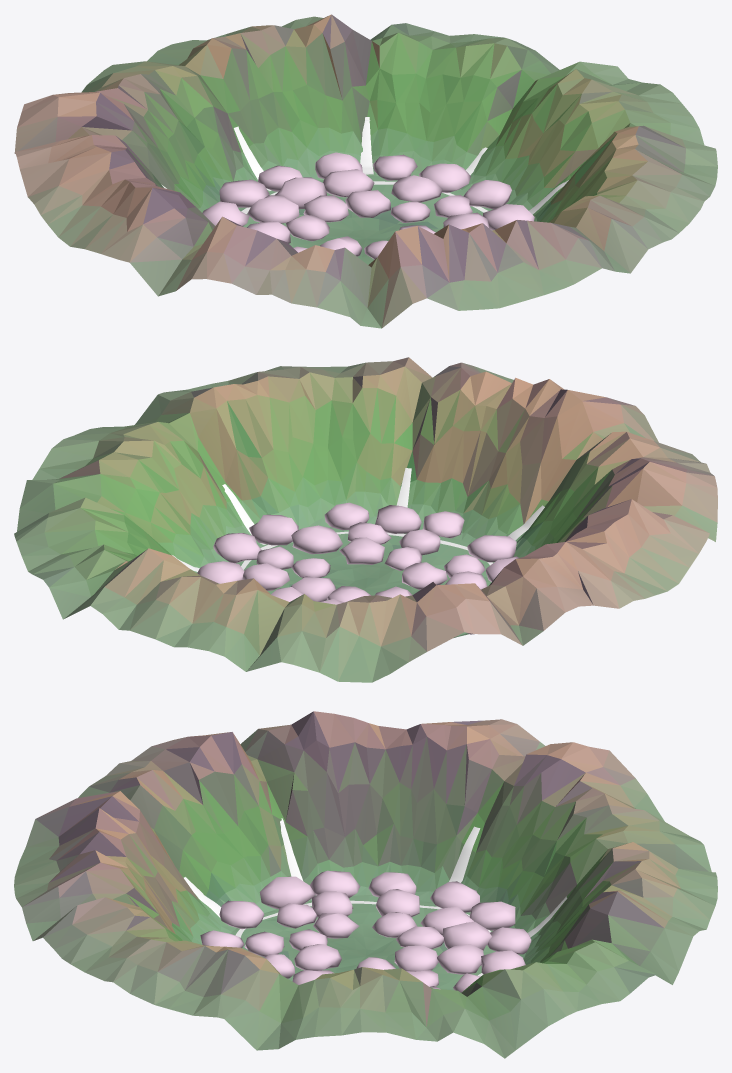
The model's file is zon_shell_far_lite_raw.glb.
The picture shows the model from 3 angles, top to bottom: view 1: azimuth 30°, elevation 25°; view 2: azimuth 150°, elevation 25°; view 3: azimuth 270°, elevation 25°; orthographic projection.
Visible parts, largest first — view 1: SM_shell_far_shell_far_terrain_x0_zm1_raw, SM_shell_far_shell_far_terrain_xm1_zm1_raw, SM_shell_far_shell_far_terrain_xm1_z0_raw, SM_shell_far_shell_far_terrain_x0_z0_raw, SM_shell_far_cloud_x0_zm1_raw, SM_shell_far_far_water_x0_zm1_raw; view 2: SM_shell_far_shell_far_terrain_x0_z0_raw, SM_shell_far_shell_far_terrain_xm1_z0_raw, SM_shell_far_shell_far_terrain_x0_zm1_raw, SM_shell_far_shell_far_terrain_xm1_zm1_raw, SM_shell_far_cloud_x0_zm1_raw, SM_shell_far_far_water_x0_zm1_raw; view 3: SM_shell_far_shell_far_terrain_xm1_z0_raw, SM_shell_far_shell_far_terrain_xm1_zm1_raw, SM_shell_far_shell_far_terrain_x0_zm1_raw, SM_shell_far_shell_far_terrain_x0_z0_raw, SM_shell_far_cloud_x0_zm1_raw, SM_shell_far_far_water_x0_zm1_raw.
Boxes of the visible parts, <box> form: SM_shell_far_shell_far_terrain_x0_zm1_raw: <box>193,14,672,238</box>; SM_shell_far_shell_far_terrain_xm1_zm1_raw: <box>14,36,365,248</box>; SM_shell_far_shell_far_terrain_xm1_z0_raw: <box>58,179,543,328</box>; SM_shell_far_shell_far_terrain_x0_z0_raw: <box>366,91,717,295</box>; SM_shell_far_cloud_x0_zm1_raw: <box>202,152,534,259</box>; SM_shell_far_far_water_x0_zm1_raw: <box>161,117,568,214</box>; SM_shell_far_shell_far_terrain_x0_z0_raw: <box>64,357,513,587</box>; SM_shell_far_shell_far_terrain_xm1_z0_raw: <box>366,377,717,594</box>; SM_shell_far_shell_far_terrain_x0_zm1_raw: <box>14,437,365,647</box>; SM_shell_far_shell_far_terrain_xm1_zm1_raw: <box>187,531,667,682</box>; SM_shell_far_cloud_x0_zm1_raw: <box>197,502,518,634</box>; SM_shell_far_far_water_x0_zm1_raw: <box>172,468,544,571</box>; SM_shell_far_shell_far_terrain_xm1_z0_raw: <box>14,711,369,958</box>; SM_shell_far_shell_far_terrain_xm1_zm1_raw: <box>362,719,717,956</box>; SM_shell_far_shell_far_terrain_x0_zm1_raw: <box>360,859,717,1058</box>; SM_shell_far_shell_far_terrain_x0_z0_raw: <box>14,850,366,1050</box>; SM_shell_far_cloud_x0_zm1_raw: <box>200,870,531,992</box>; SM_shell_far_far_water_x0_zm1_raw: <box>184,818,567,976</box>.
Size of the model in its own units: 728 by 148 by 728.
